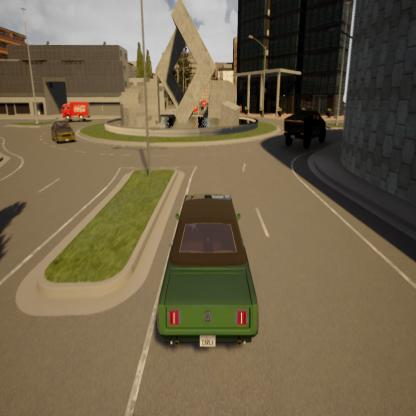Cars: (153, 178, 269, 357), (278, 91, 333, 162), (52, 116, 81, 156), (60, 100, 91, 122)
Pedestrian: (100, 104, 106, 118)
